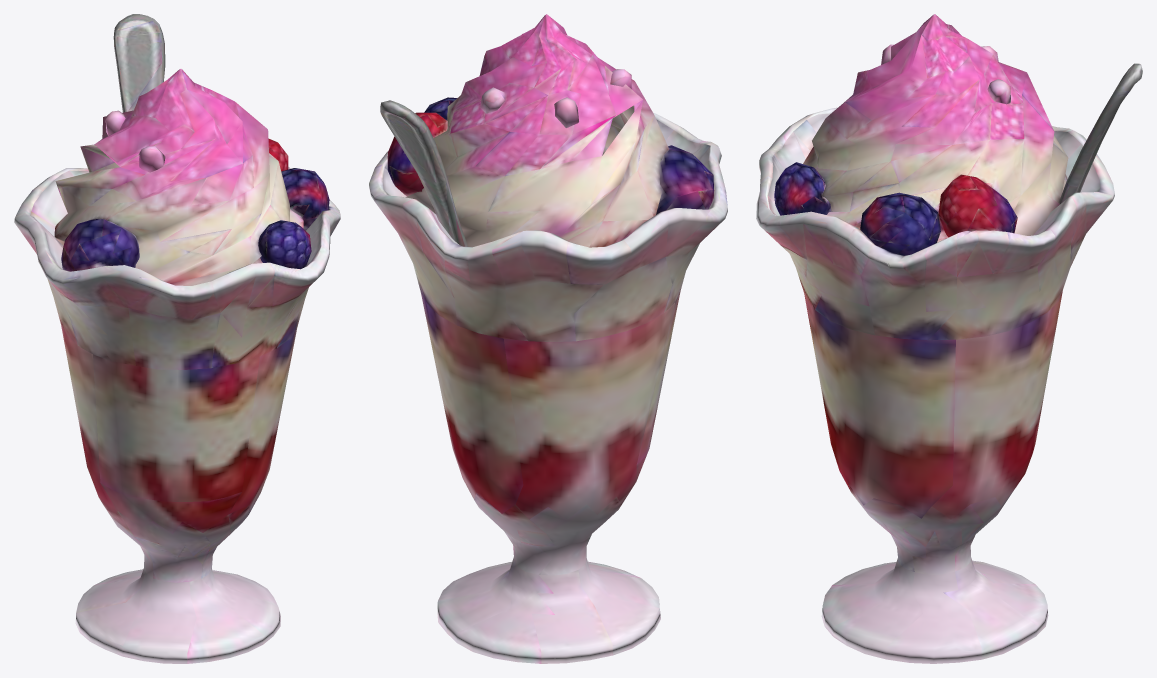
File: item-crystalParfait.glb
The picture shows the model from 3 angles, left to right: view 1: azimuth 30°, elevation 25°; view 2: azimuth 150°, elevation 25°; view 3: azimuth 270°, elevation 25°; orthographic projection. The views are drawn at different scales.
Bounding box in the file's own units: 0.5176 × 0.9521 × 0.5527.
1 material, 1 textured.
